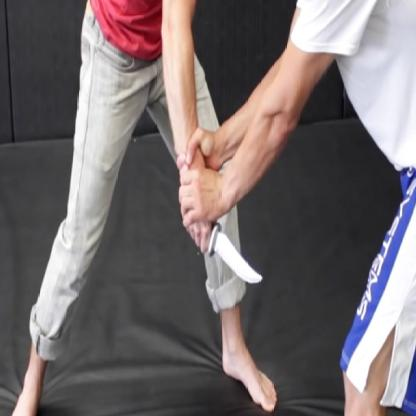knife: (180, 210, 268, 296)
